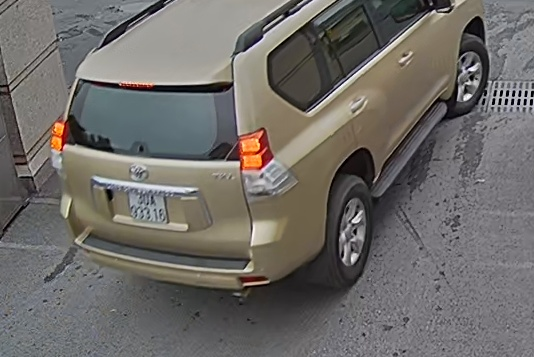vehicle plate: (124, 188, 172, 232)
